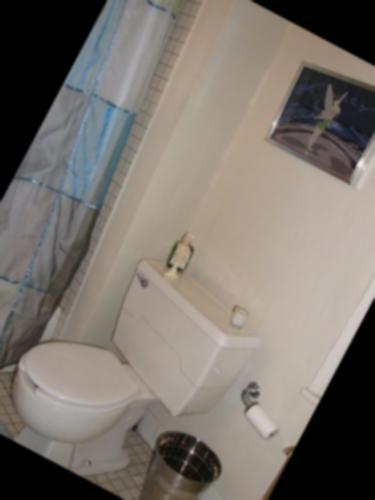Bote de Basura: (125, 414, 234, 500)
Ducha: (0, 0, 235, 434)
